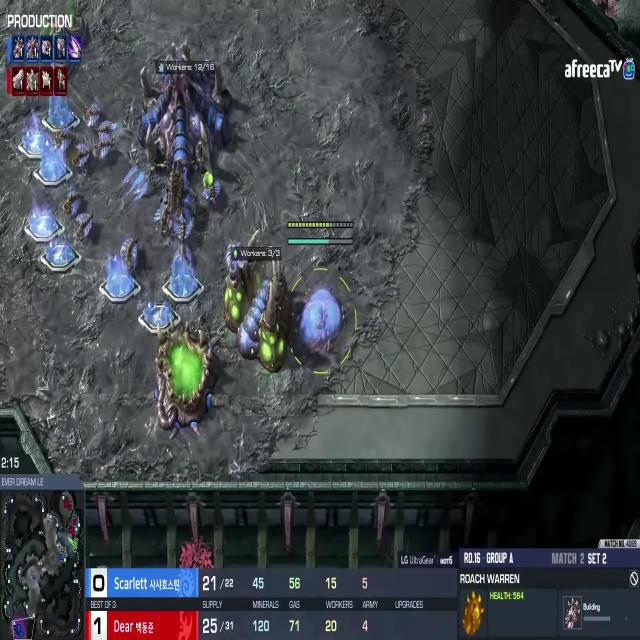drone: (200, 160, 223, 212), (221, 236, 247, 277), (117, 234, 144, 273), (70, 134, 92, 177), (90, 131, 118, 163), (50, 121, 76, 154), (73, 209, 96, 245), (151, 199, 172, 234), (60, 189, 86, 217), (80, 95, 102, 128), (97, 109, 118, 141), (173, 213, 194, 244)
queen: (159, 159, 197, 244)
